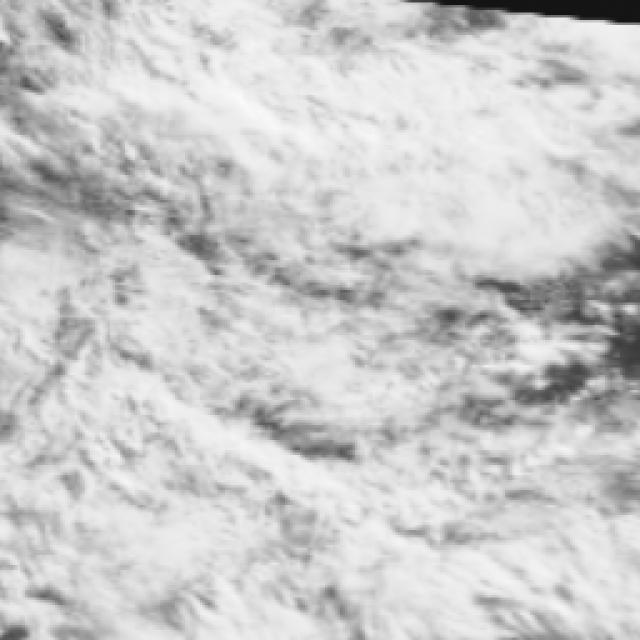CB: (212, 452, 437, 609), (112, 3, 335, 156), (27, 367, 222, 540), (310, 59, 532, 199), (419, 448, 610, 564), (92, 267, 258, 377), (381, 185, 595, 262)
